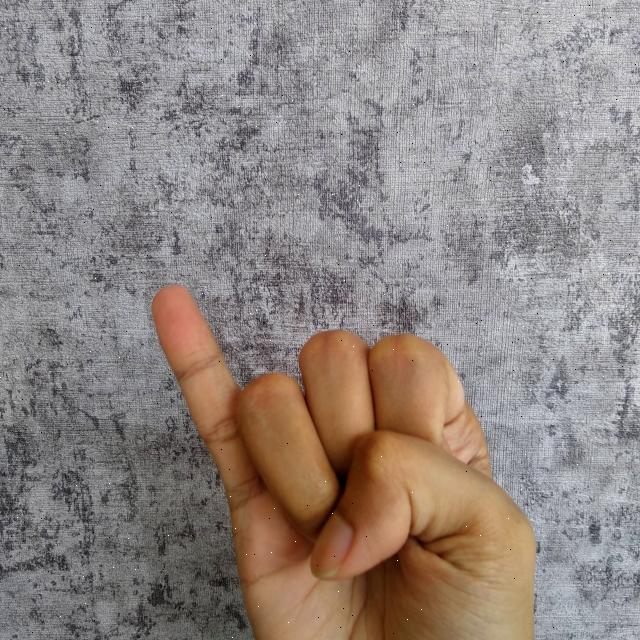I: (147, 280, 539, 640)
